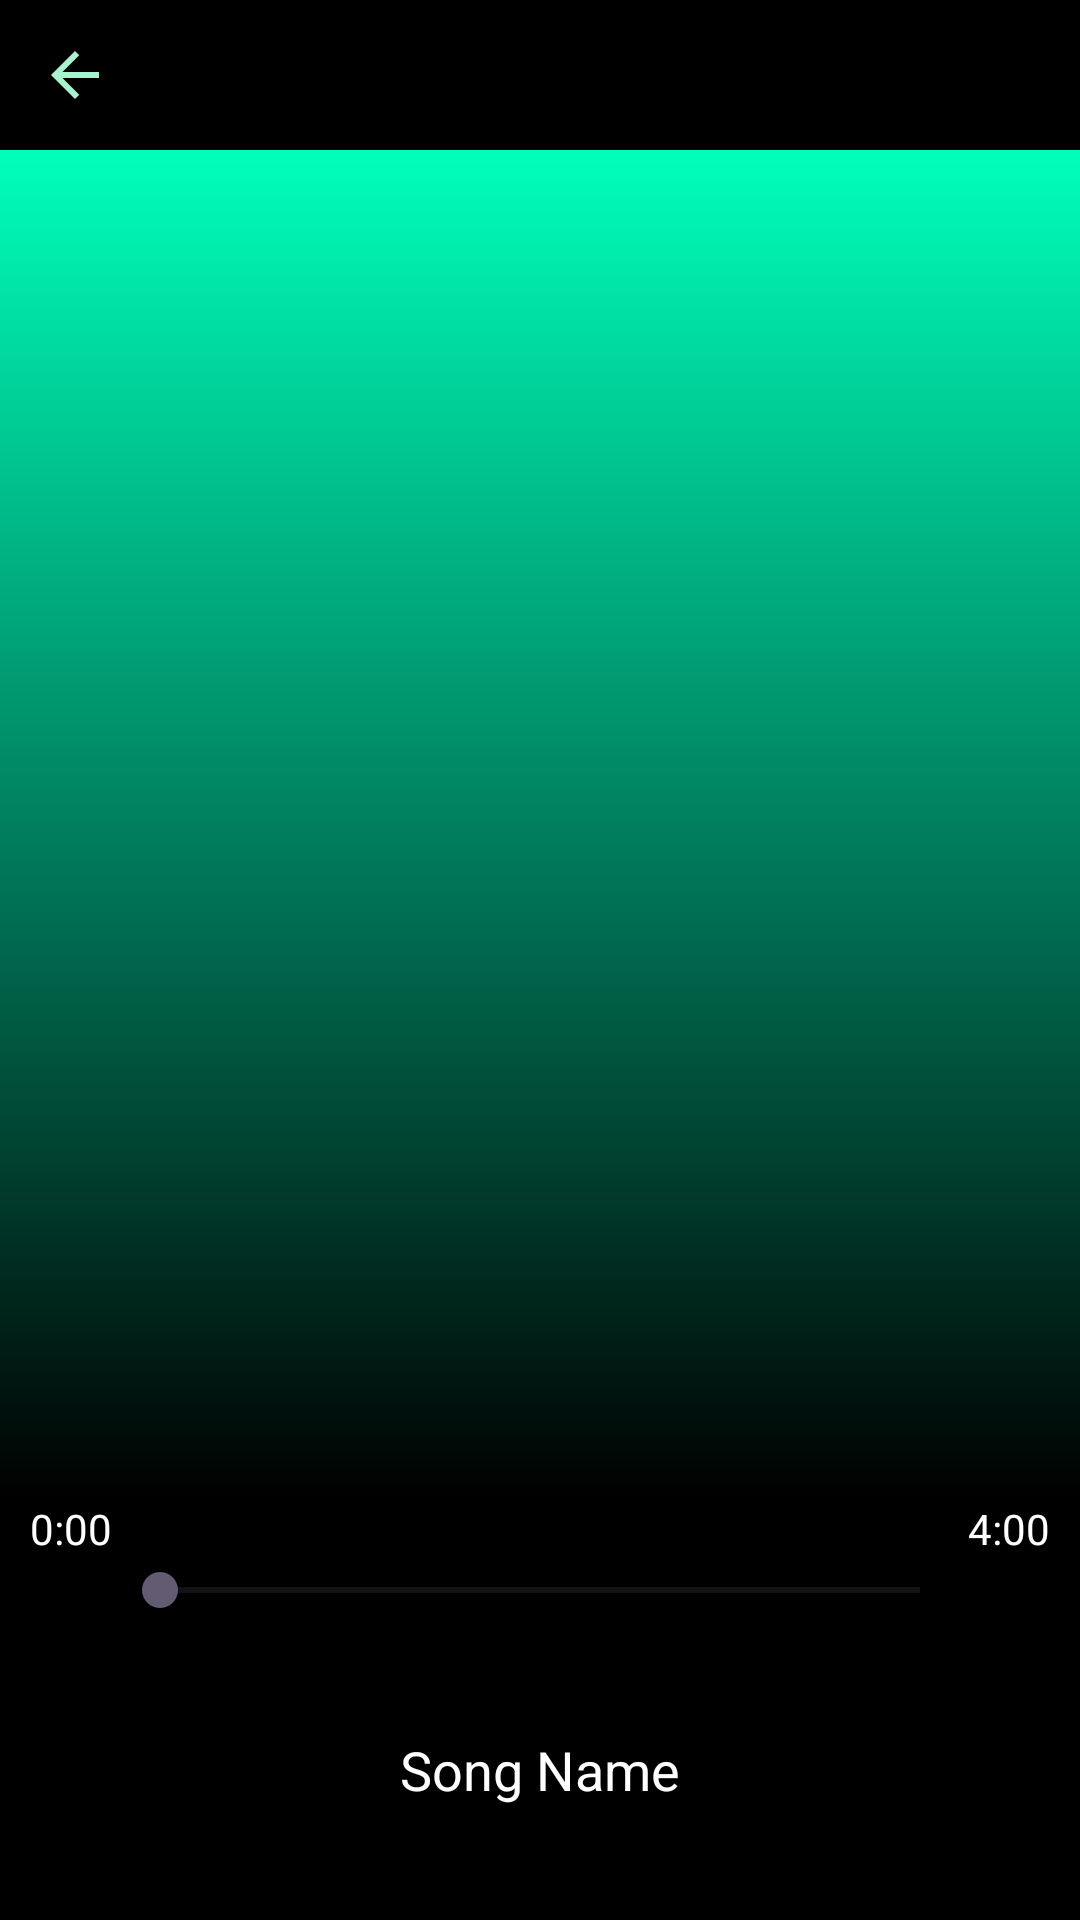

Icons on this 1080 x 1920 Android screen, each with the point to tap as (x,y):
Back button: (75,75)
